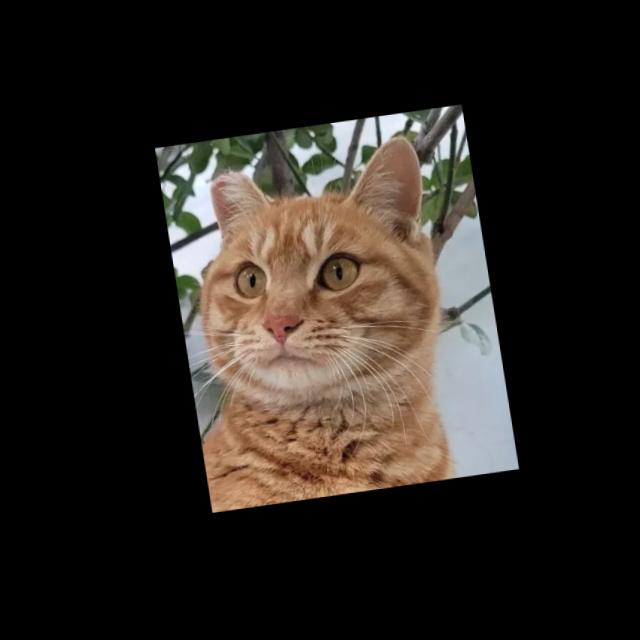animals: (168, 128, 464, 421)
